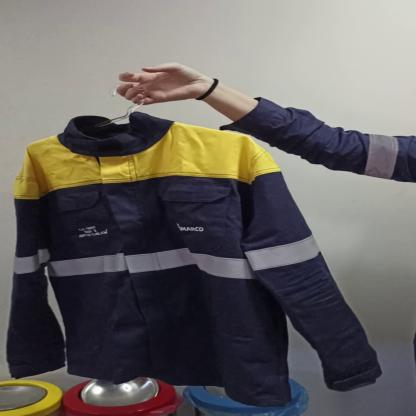C_eletrica: (6, 116, 385, 400)
